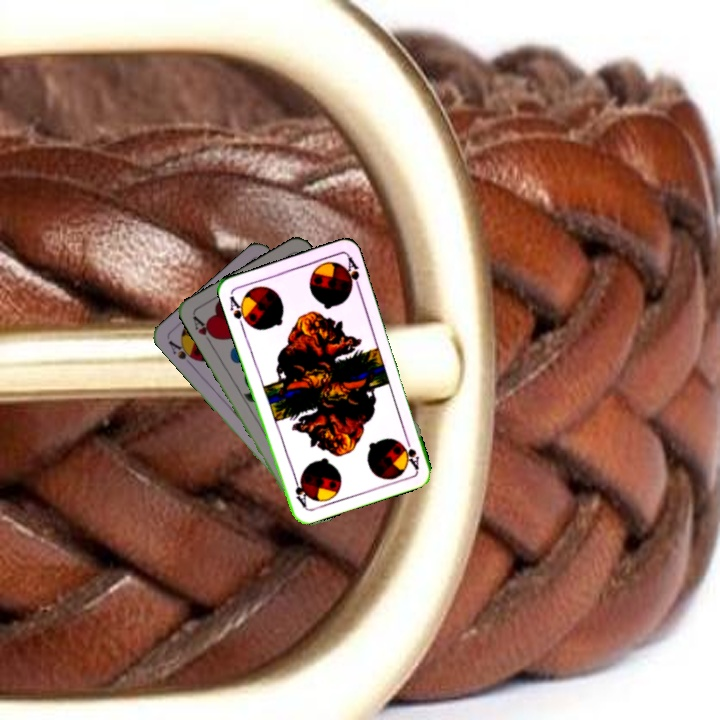HA: (189, 312, 219, 349)
SA: (164, 336, 200, 369), (225, 292, 252, 330), (397, 432, 422, 472)
